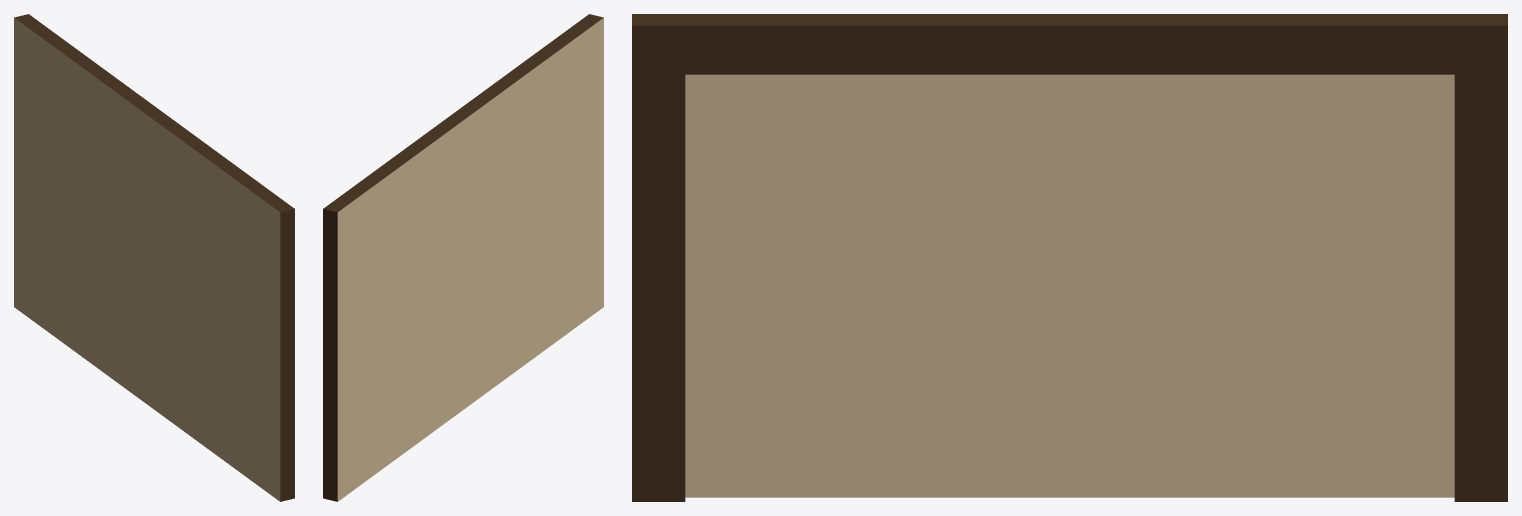
File: Wall_Yukiko.fbx
The picture shows the model from 3 angles, left to right: view 1: azimuth 30°, elevation 25°; view 2: azimuth 150°, elevation 25°; view 3: azimuth 270°, elevation 25°; orthographic projection. The views are drawn at different scales.
Visible parts, largest first — view 1: Cube; view 2: Cube; view 3: Cube.
Part boxes in pixels (x1,y1,x2,y2): Cube: [14, 14, 294, 501]; Cube: [323, 14, 603, 501]; Cube: [632, 14, 1507, 501].
Size of the model in its own units: 15.83 by 300 by 500.
